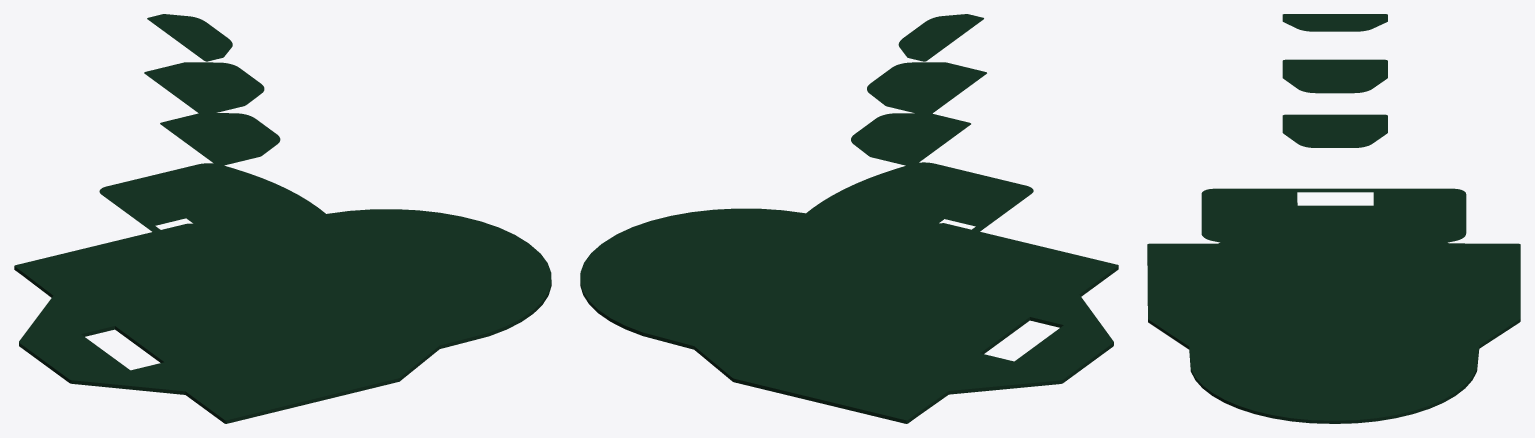
File: Top Floor.fbx
3 renders of one model, left to right at view 1: azimuth 30°, elevation 25°; view 2: azimuth 150°, elevation 25°; view 3: azimuth 270°, elevation 25°, orthographic. The views are drawn at different scales.
Visible parts, largest first — view 1: Control tower_Floor_0; view 2: Control tower_Floor_0; view 3: Control tower_Floor_0.
Boxes of the visible parts, x1,y1,x2,y2 form: Control tower_Floor_0: (14,14,551,423); Control tower_Floor_0: (580,14,1118,423); Control tower_Floor_0: (1147,14,1520,423).
Bounding box in the file's own units: 1456 × 840 × 1101.
